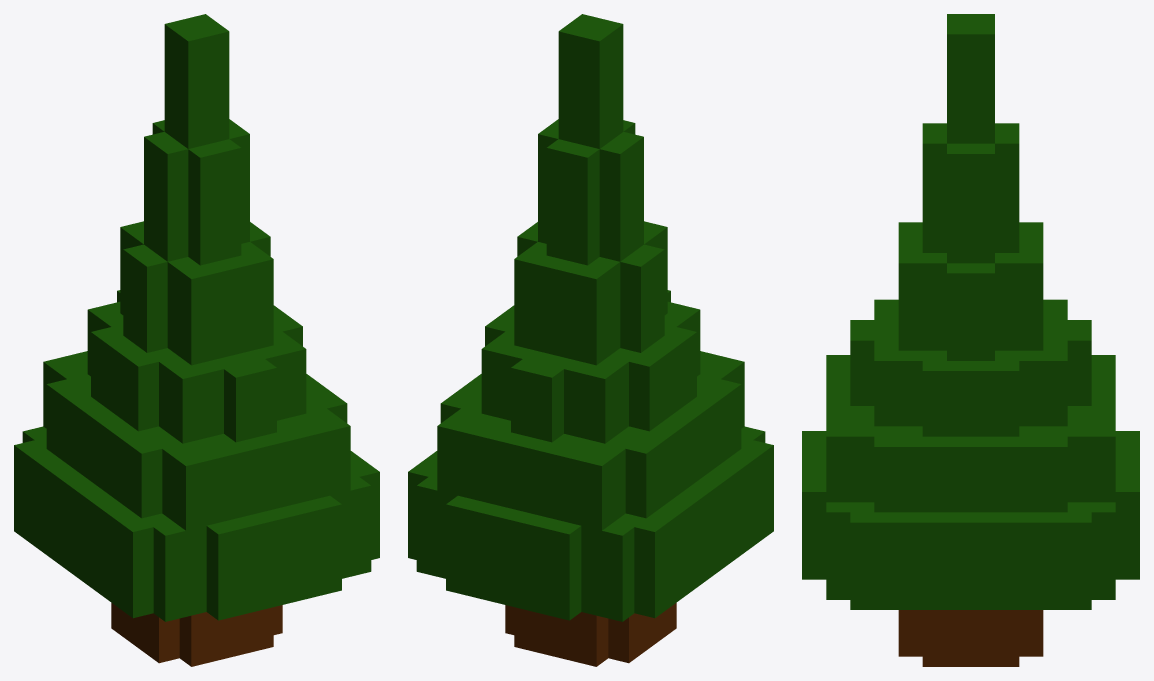
File: kuusi.gltf
The picture shows the model from 3 angles, left to right: view 1: azimuth 30°, elevation 25°; view 2: azimuth 150°, elevation 25°; view 3: azimuth 270°, elevation 25°; orthographic projection.
Visible parts, largest first — view 1: Layer.1; view 2: Layer.1; view 3: Layer.1.
Part boxes in pixels (left/top/right/bottom): Layer.1: left=14, top=14, right=379, bottom=666; Layer.1: left=408, top=14, right=773, bottom=666; Layer.1: left=802, top=14, right=1139, bottom=666.
Bounding box in the file's own units: 12 × 28 × 14.
Materials: 1 (1 with a texture image).
